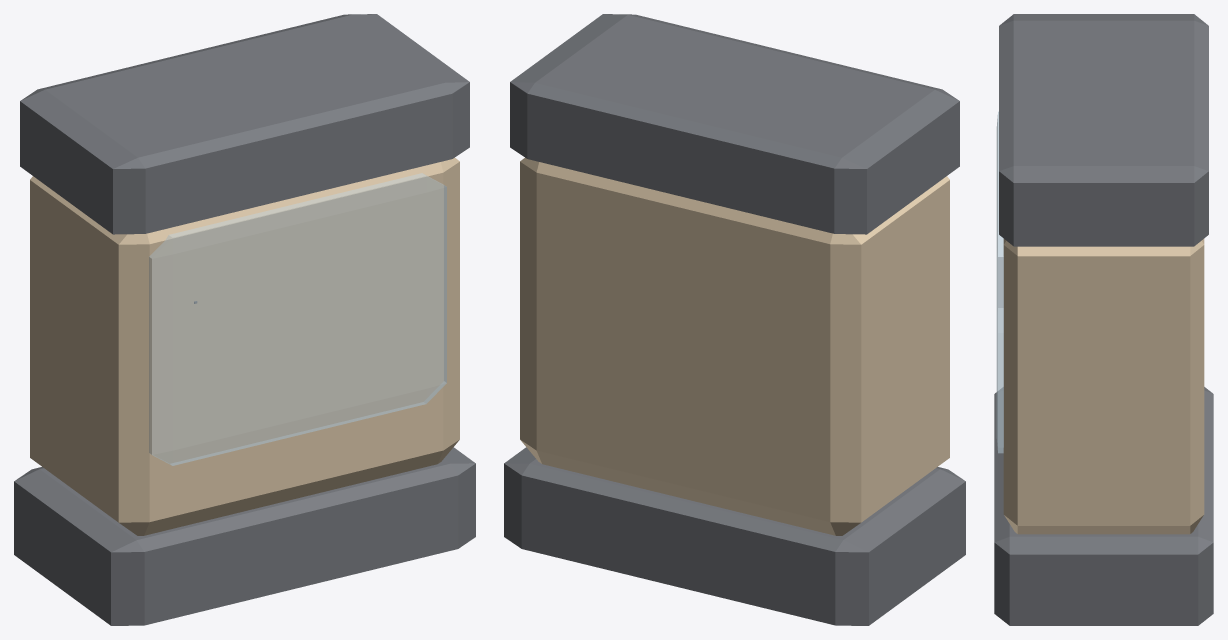
Rendered from b10_donut_shop_display_counter.glb.
3 views of the same model, side by side, from view 1: azimuth 30°, elevation 25°; view 2: azimuth 150°, elevation 25°; view 3: azimuth 270°, elevation 25° (orthographic). The views are drawn at different scales.
Visible parts, largest first — view 1: b10_donut_shop_display_counter; view 2: b10_donut_shop_display_counter; view 3: b10_donut_shop_display_counter.
Boxes of the visible parts, left/top/right/bottom form: b10_donut_shop_display_counter: left=14, top=14, right=475, bottom=625; b10_donut_shop_display_counter: left=504, top=14, right=965, bottom=625; b10_donut_shop_display_counter: left=994, top=14, right=1213, bottom=625.
Size of the model in its own units: 1.25 by 1.52 by 0.67.
